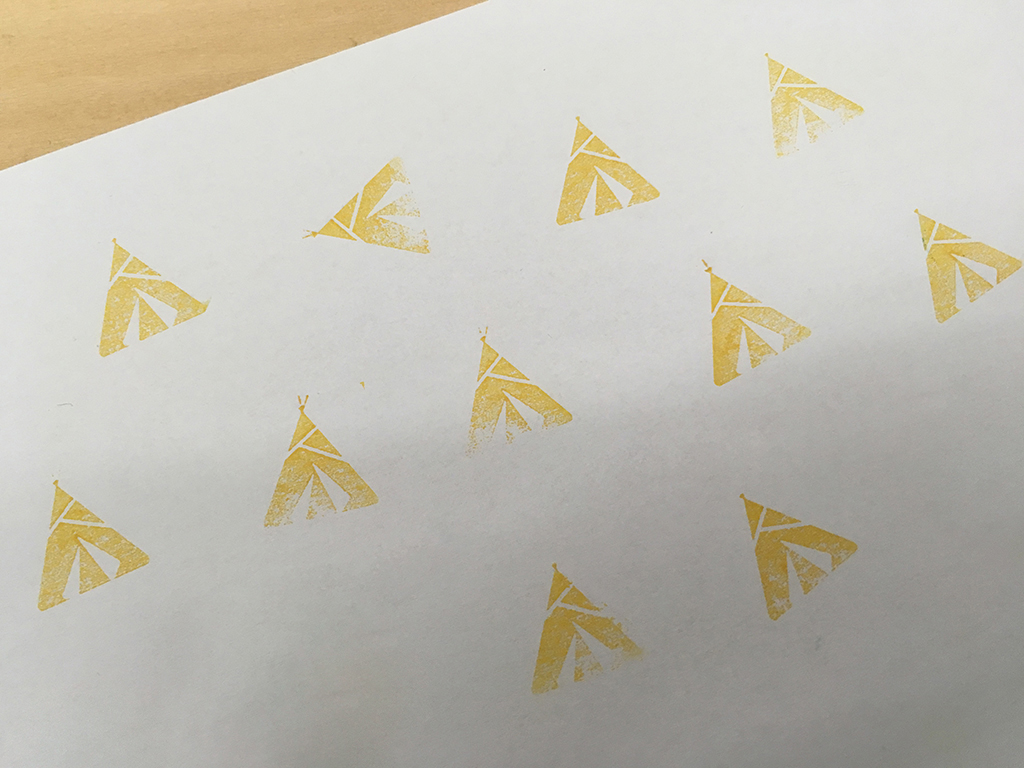tent: (728, 480, 866, 627), (524, 556, 657, 702), (456, 319, 583, 469), (256, 389, 385, 535), (29, 476, 160, 617), (694, 249, 819, 392), (901, 199, 1024, 336), (86, 229, 211, 362), (295, 149, 434, 262), (751, 48, 873, 166), (554, 110, 663, 229)
